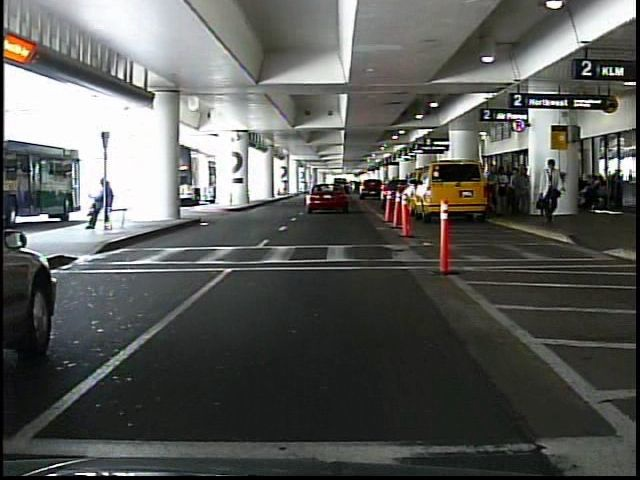person: (535, 157, 566, 223), (513, 163, 532, 219), (496, 165, 512, 216)
